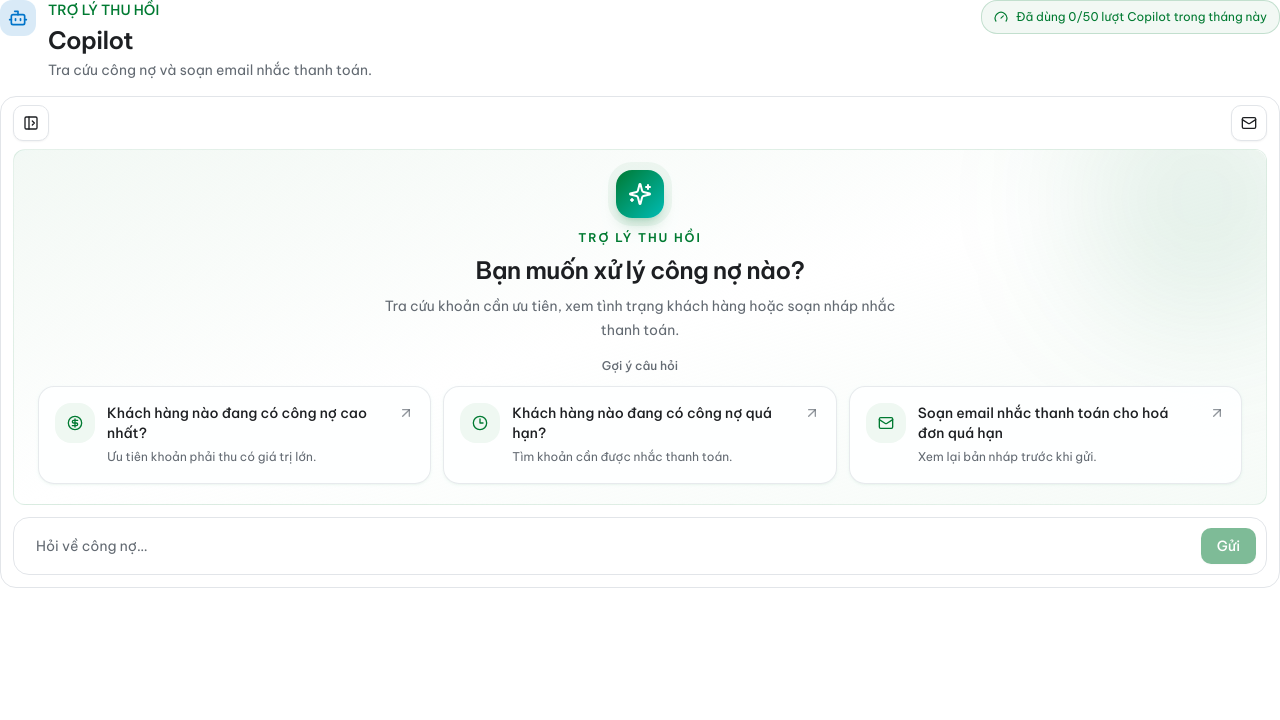
CopilotPage › closes an open Copilot sheet when the plan loses access
This screenshot has width=1280, height=720.
Check: the heading "Bạn muốn xử lý công nợ nào?" is shown, box [476,254,804,286]
Click the button named "mở lịch sử chat": (31, 123) [13,105,49,141]
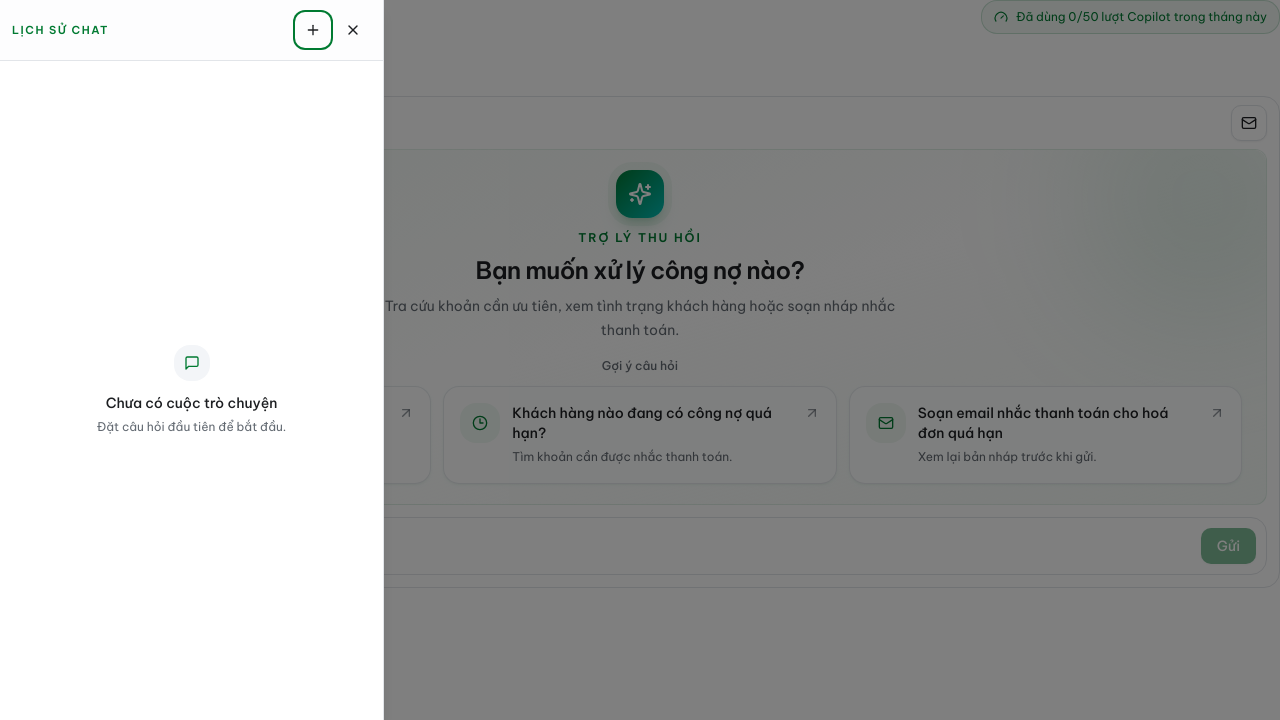
Check: the dialog "Lịch sử chat" is shown, box [0,0,384,719]
